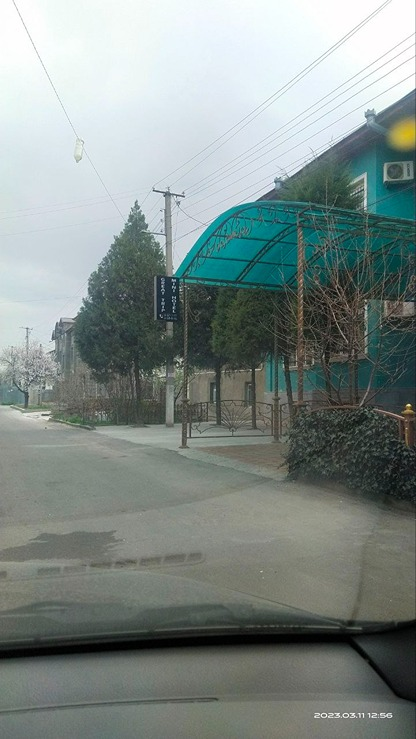tree: (59, 192, 179, 373), (3, 337, 48, 412)
